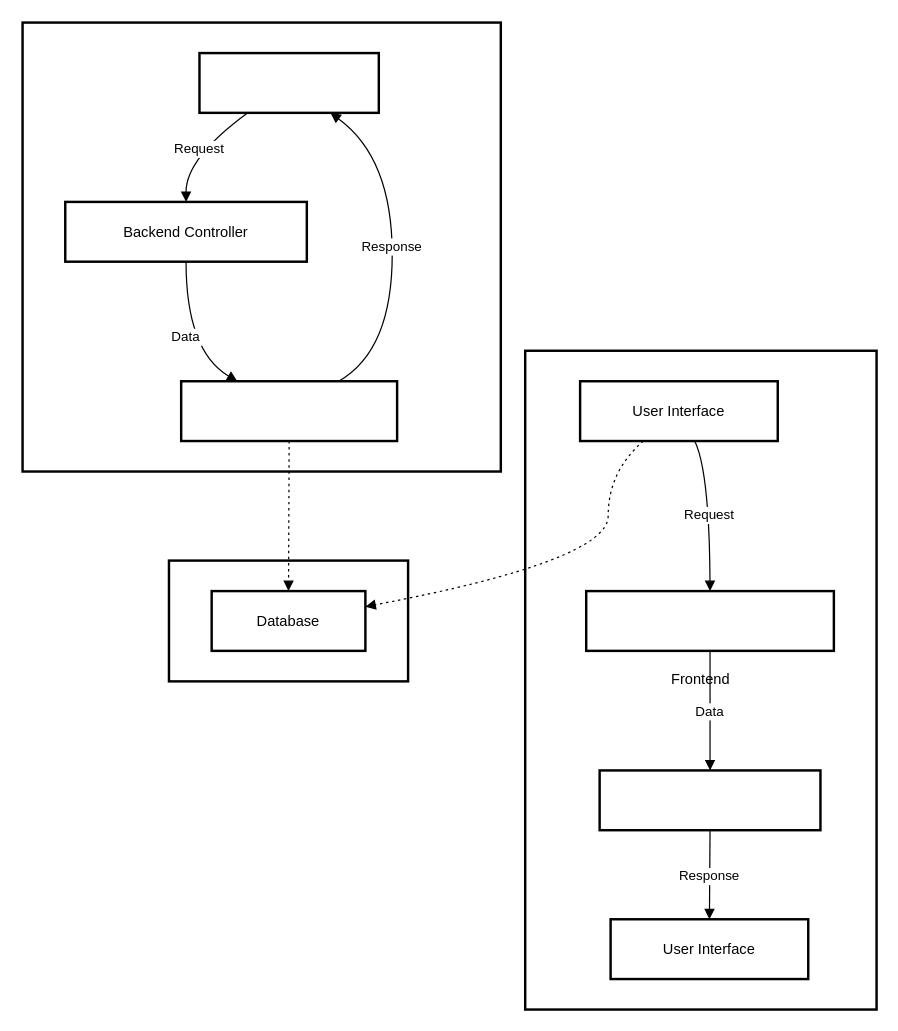
Some shapes in this 898 by 1031 pixel diagram are drawn without their labels. Here are the shapes that lost their labels. From the top down, the centre of each, then its label:
At (x=288, y=82): "Backend API".
At (x=288, y=410): "Backend Service".
At (x=709, y=620): "Frontend Controller".
At (x=709, y=800): "Frontend Service".
